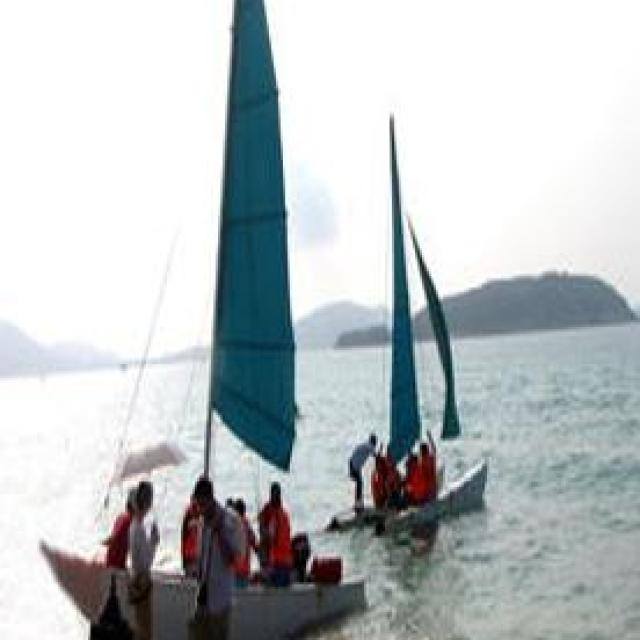sailboat: (42, 0, 371, 640), (335, 110, 496, 533)
